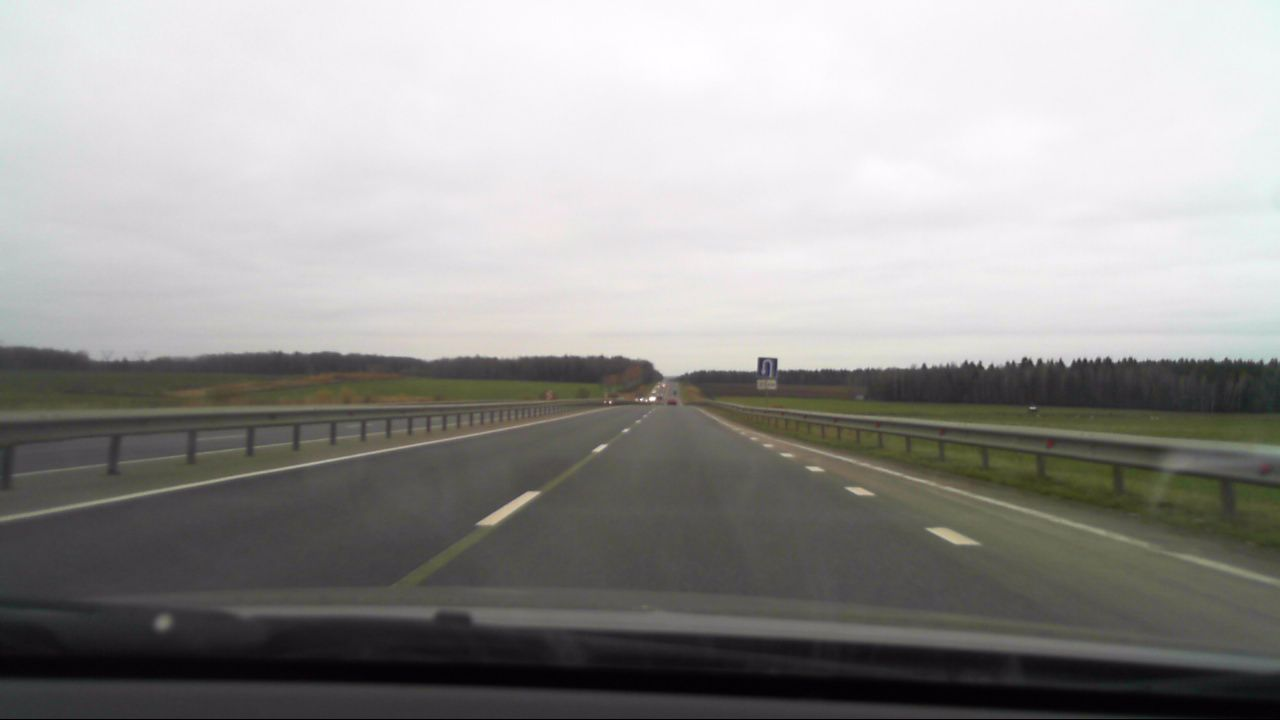U-turn: (758, 358, 776, 378)
